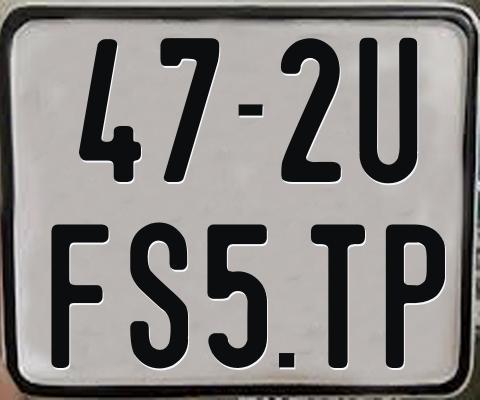2: (281, 37, 343, 183)
4: (76, 38, 140, 186)
5: (206, 224, 269, 371)
7: (158, 38, 221, 186)
F: (49, 223, 111, 368)
P: (383, 221, 444, 370)
S: (127, 221, 188, 368)
T: (310, 221, 365, 365)
U: (359, 38, 421, 187)
